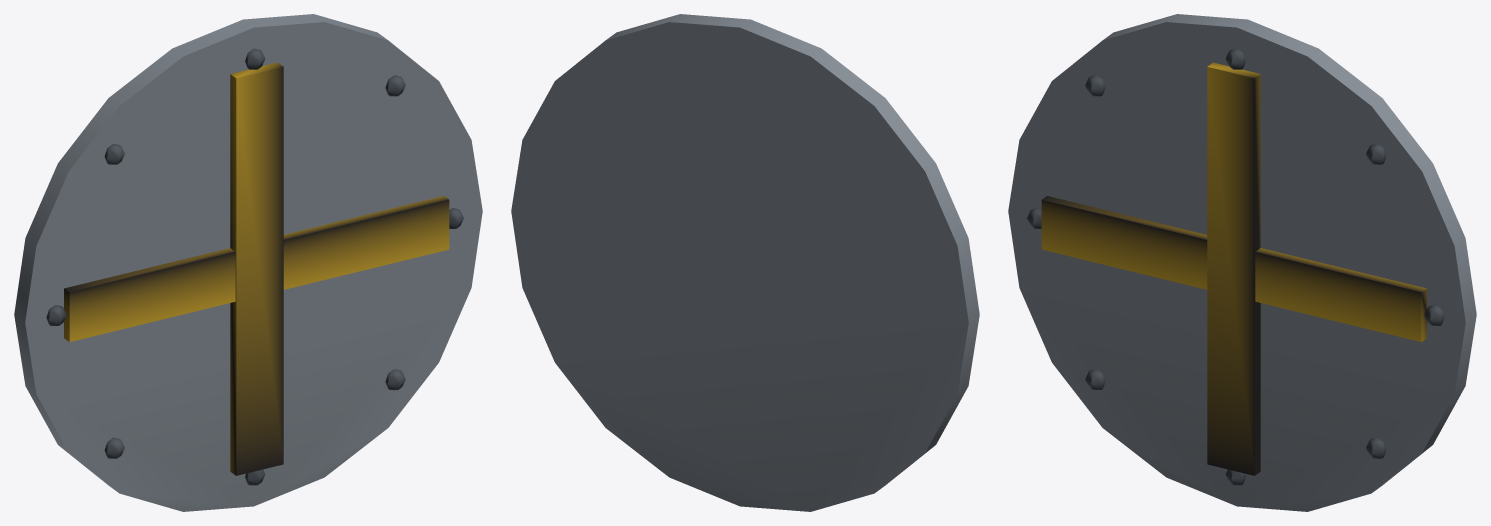
The model's file is prop.honey_cannon_lid.glb.
3 renders of one model, left to right at view 1: azimuth 30°, elevation 25°; view 2: azimuth 150°, elevation 25°; view 3: azimuth 330°, elevation 25°, orthographic.
Visible parts, largest first — view 1: honey_cannon_lid; view 2: honey_cannon_lid; view 3: honey_cannon_lid.
Part boxes in pixels (<box>): honey_cannon_lid: <box>14,14,482,511</box>; honey_cannon_lid: <box>511,14,979,511</box>; honey_cannon_lid: <box>1008,14,1476,511</box>.
Bounding box in the file's own units: 5.3 × 5.3 × 0.34.
